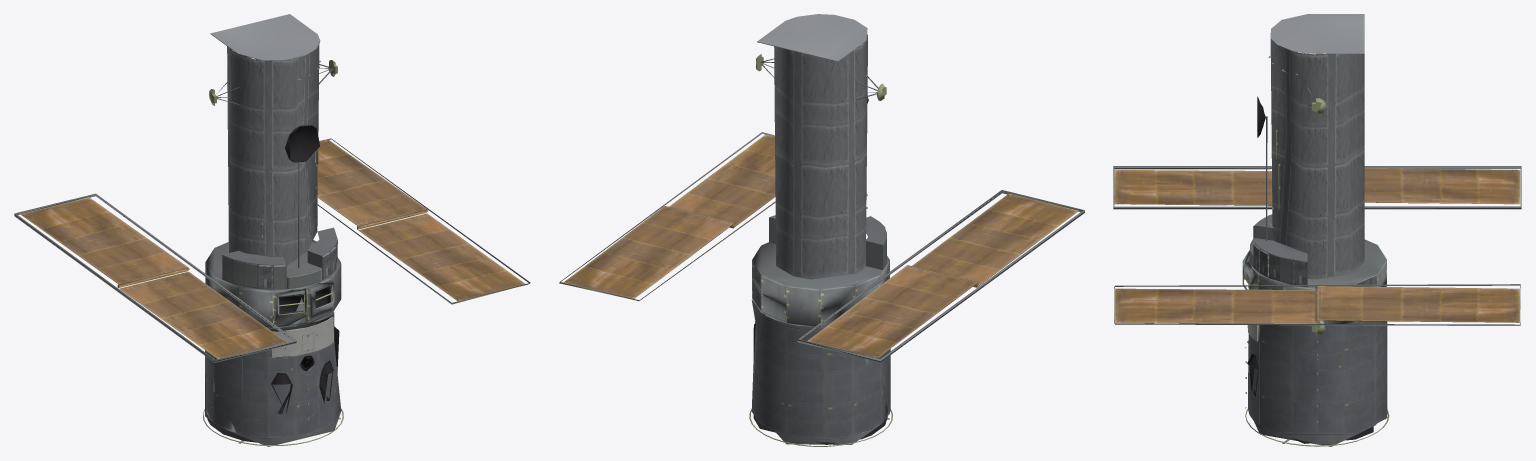
Rendered from hubble.glb.
3 renders of one model, left to right at view 1: azimuth 30°, elevation 25°; view 2: azimuth 150°, elevation 25°; view 3: azimuth 270°, elevation 25°, orthographic.
Visible parts, largest first — view 1: hst; view 2: hst; view 3: hst.
Part boxes in pixels (x1,y1,x2,y2): hst: (14, 14, 530, 446); hst: (559, 14, 1084, 446); hst: (1113, 14, 1521, 446).
Bounding box in the file's own units: 455 × 525 × 500.
5 materials, 5 textured.
